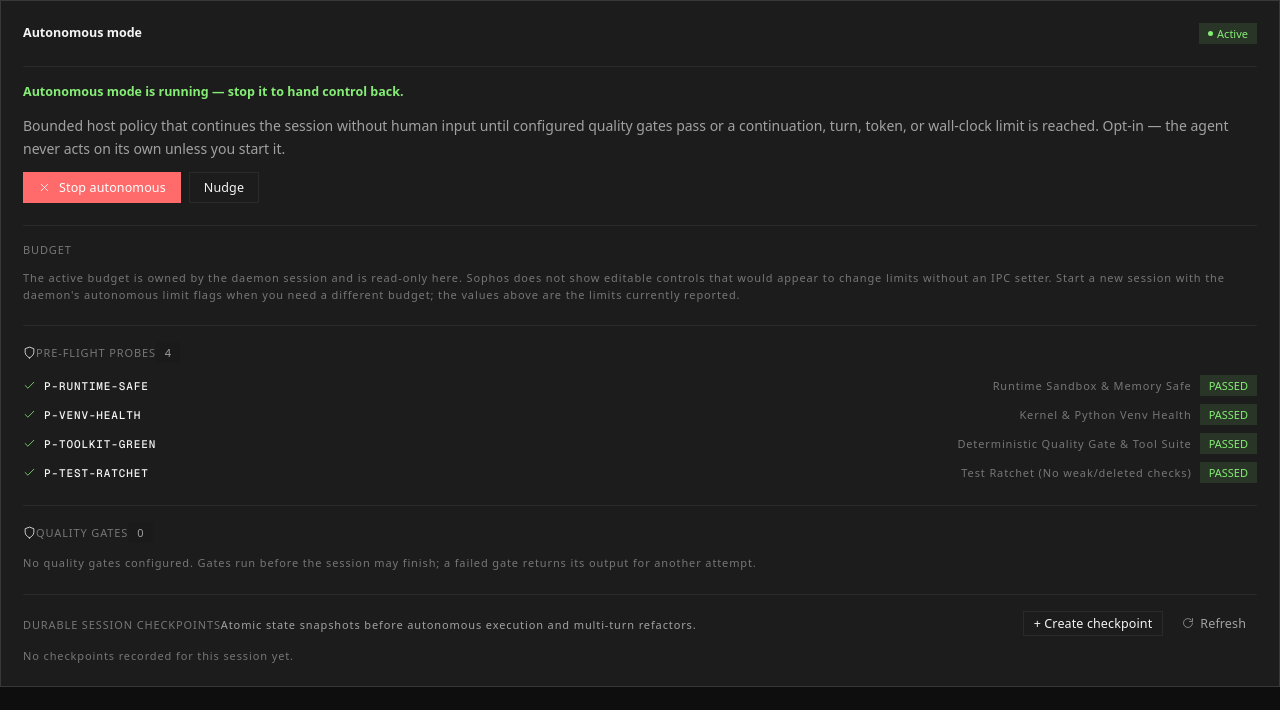
Test: AutonomousPanel › stops the mode via ipc.prompt('/autonomous off')
This screenshot has width=1280, height=710.
Click the button "Stop autonomous" at (102, 187), box [23, 172, 181, 203]
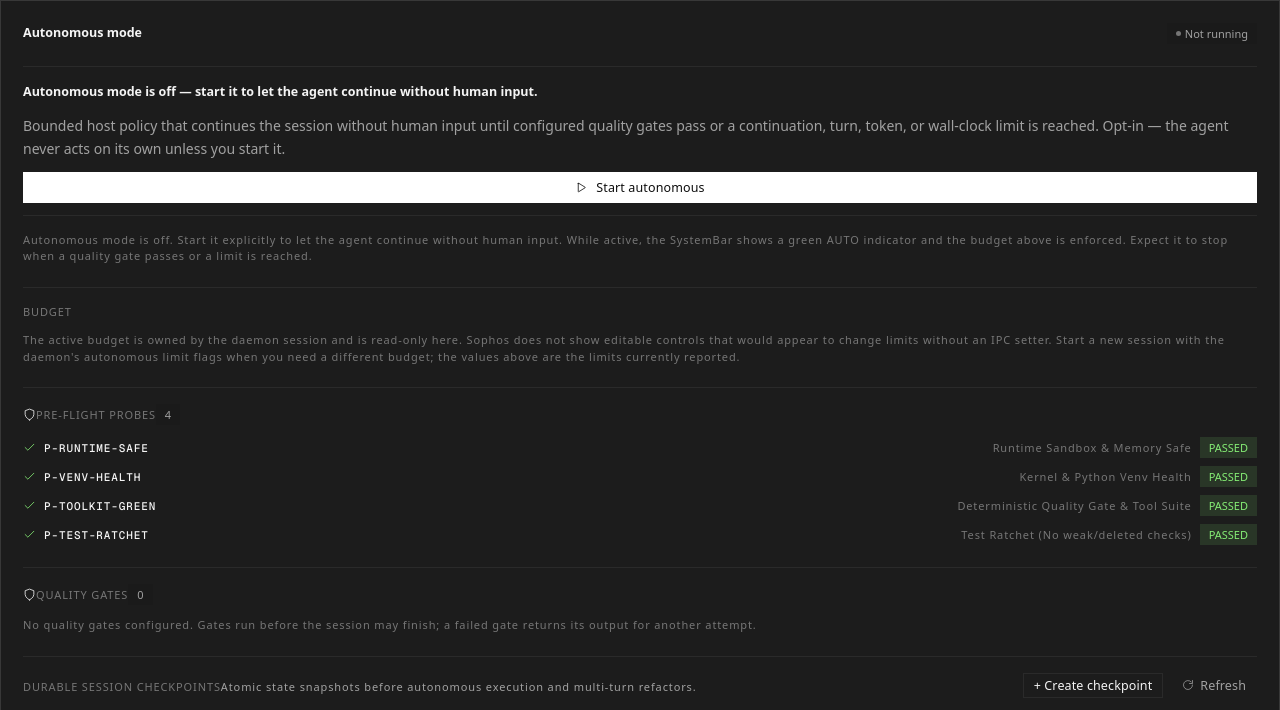
Check: the text "Not running" is shown, box [1167, 23, 1257, 44]
